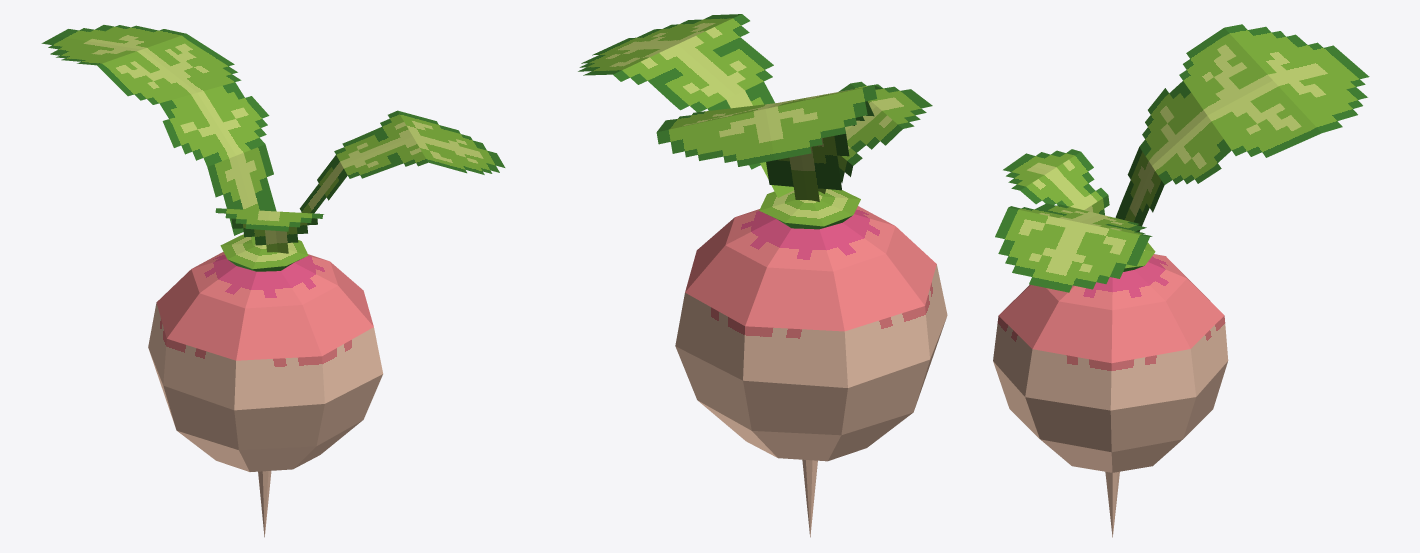
The model's file is radish.fbx.
3 views of the same model, side by side, from view 1: azimuth 30°, elevation 25°; view 2: azimuth 150°, elevation 25°; view 3: azimuth 270°, elevation 25° (orthographic). The views are drawn at different scales.
Visible parts, largest first — view 1: Radish; view 2: Radish; view 3: Radish.
Part boxes in pixels (box(x1,y1,x2,y2)): Radish: box(41, 25, 505, 537); Radish: box(578, 14, 947, 537); Radish: box(993, 24, 1369, 537).
Bounding box in the file's own units: 141 × 162 × 137.
1 material, 1 textured.
